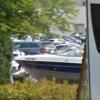Boat: (14, 43, 97, 86)
